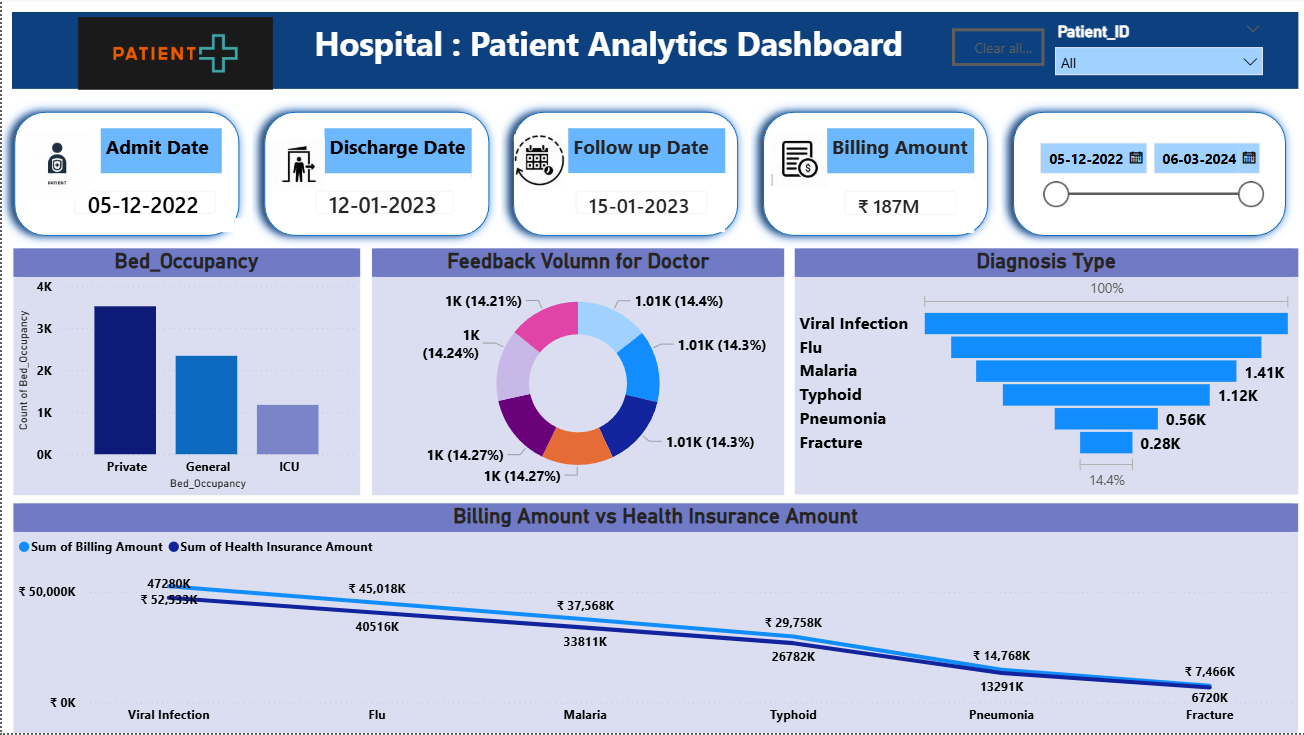

The dashboard page shown, as its layout file describes it:
{"tool":"powerbi","page":{"name":"Page 1","canvas":[1280,720],"ordinal":0},"visuals":[{"type":"textbox","box":[9.6,15.1,1258.3,75.5],"z":0},{"type":"shape","box":[488.5,100.2,244.3,145.5],"z":1000},{"type":"shape","box":[732.8,100.2,244.3,145.5],"z":2000},{"type":"shape","box":[244.3,100.2,244.3,145.5],"z":3000},{"type":"shape","box":[0,100.2,244.3,145.5],"z":4000},{"type":"shape","box":[977,100.3,291,145.5],"z":5000},{"type":"textbox","box":[0,496,244,150],"z":7000},{"type":"textbox","box":[194.9,17.8,719,59],"z":8000},{"type":"slicer","fields":{"Values":["Main Sheet.Patient_ID"]},"box":[1019.6,19.2,223.7,57.6],"z":9000},{"type":"cardVisual","fields":{"Data":["Min(Main Sheet.Admit_Date)"]},"box":[53.8,172.4,173.6,57.5],"z":10000},{"type":"textbox","box":[96.6,128.4,118.6,44],"z":11000},{"type":"textbox","box":[315.6,129,144.1,48],"z":12000},{"type":"cardVisual","fields":{"Data":["Min(Main Sheet.Discharge_Date)"]},"box":[289.8,172.4,170,57.5],"z":13000},{"type":"textbox","box":[227.8,216.8,16.5,108.4],"z":14000},{"type":"textbox","box":[554.4,129,153.7,43.9],"z":15000},{"type":"textbox","box":[572.2,185.2,126.2,19.2],"z":16000},{"type":"cardVisual","fields":{"Data":["Min(Main Sheet.Followup Date)"]},"box":[544.8,172.9,163.3,57.6],"z":17000},{"type":"textbox","box":[807.1,128.4,144.3,48.9],"z":18000},{"type":"cardVisual","fields":{"Data":["Sum(Main Sheet.Billing Amount)"]},"box":[807.1,172.4,144.3,58.7],"z":19000},{"type":"textbox","box":[0,328,244.3,83.7],"z":20000},{"type":"slicer","fields":{"Values":["Main Sheet.Admit_Date"]},"box":[1003.1,131.7,240.1,83.7],"z":21000},{"type":"columnChart","title":" Bed_Occupancy","fields":{"Category":["Main Sheet.Bed_Occupancy"],"Y":["CountNonNull(Main Sheet.Bed_Occupancy)"]},"box":[11,245.6,338.9,241.5],"z":22000},{"type":"donutChart","title":"Feedback Volumn for  Doctor","fields":{"Category":["Main Sheet.Doctor"],"Y":["CountNonNull(Main Sheet.Doctor)"]},"box":[362.3,245.6,403.4,241.5],"z":23000},{"type":"funnel","title":" Diagnosis Type","fields":{"Category":["Main Sheet.Diagnosis"],"Y":["CountNonNull(Main Sheet.Diagnosis)"]},"box":[775.3,245.8,492.8,240.9],"z":24000},{"type":"lineChart","title":"Billing Amount  vs  Health Insurance Amount ","fields":{"Y":["Sum(Main Sheet.Billing Amount)","Sum(Main Sheet.Health Insurance Amount)"],"Category":["Main Sheet.Diagnosis"]},"box":[11,495.2,1257.1,225],"z":25000},{"type":"actionButton","box":[929,30.2,90.6,37],"z":26000},{"type":"image","box":[752,122.3,55,72.1],"z":27000},{"type":"image","box":[264.8,126.2,50.8,75.5],"z":28000},{"type":"image","box":[20.8,128.4,66,72.1],"z":29000},{"type":"image","box":[497.7,134.5,56.3,50.1],"z":30000},{"type":"image","box":[74.1,19.2,190.7,71.4],"z":30001}]}

Visuals, with their boxes in screenshot pixels (x1, y1, x2, y2), scaled from the page's 1280x720 canvas onto the 1304x735 screenshot:
textbox: region(10, 15, 1292, 92)
shape: region(498, 102, 747, 251)
shape: region(747, 102, 995, 251)
shape: region(249, 102, 498, 251)
shape: region(0, 102, 249, 251)
shape: region(995, 102, 1292, 251)
textbox: region(0, 506, 249, 659)
textbox: region(199, 18, 931, 78)
slicer - Main Sheet.Patient_ID: region(1039, 20, 1267, 78)
cardVisual - Min(Main Sheet.Admit_Date): region(55, 176, 232, 235)
textbox: region(98, 131, 219, 176)
textbox: region(322, 132, 468, 181)
cardVisual - Min(Main Sheet.Discharge_Date): region(295, 176, 468, 235)
textbox: region(232, 221, 249, 332)
textbox: region(565, 132, 721, 177)
textbox: region(583, 189, 711, 209)
cardVisual - Min(Main Sheet.Followup Date): region(555, 177, 721, 235)
textbox: region(822, 131, 969, 181)
cardVisual - Sum(Main Sheet.Billing Amount): region(822, 176, 969, 236)
textbox: region(0, 335, 249, 420)
slicer - Main Sheet.Admit_Date: region(1022, 134, 1267, 220)
" Bed_Occupancy" columnChart: region(11, 251, 356, 497)
"Feedback Volumn for  Doctor" donutChart: region(369, 251, 780, 497)
" Diagnosis Type" funnel: region(790, 251, 1292, 497)
"Billing Amount  vs  Health Insurance Amount " lineChart: region(11, 506, 1292, 734)
actionButton: region(946, 31, 1039, 69)
image: region(766, 125, 822, 198)
image: region(270, 129, 322, 206)
image: region(21, 131, 88, 205)
image: region(507, 137, 564, 188)
image: region(75, 20, 270, 92)
